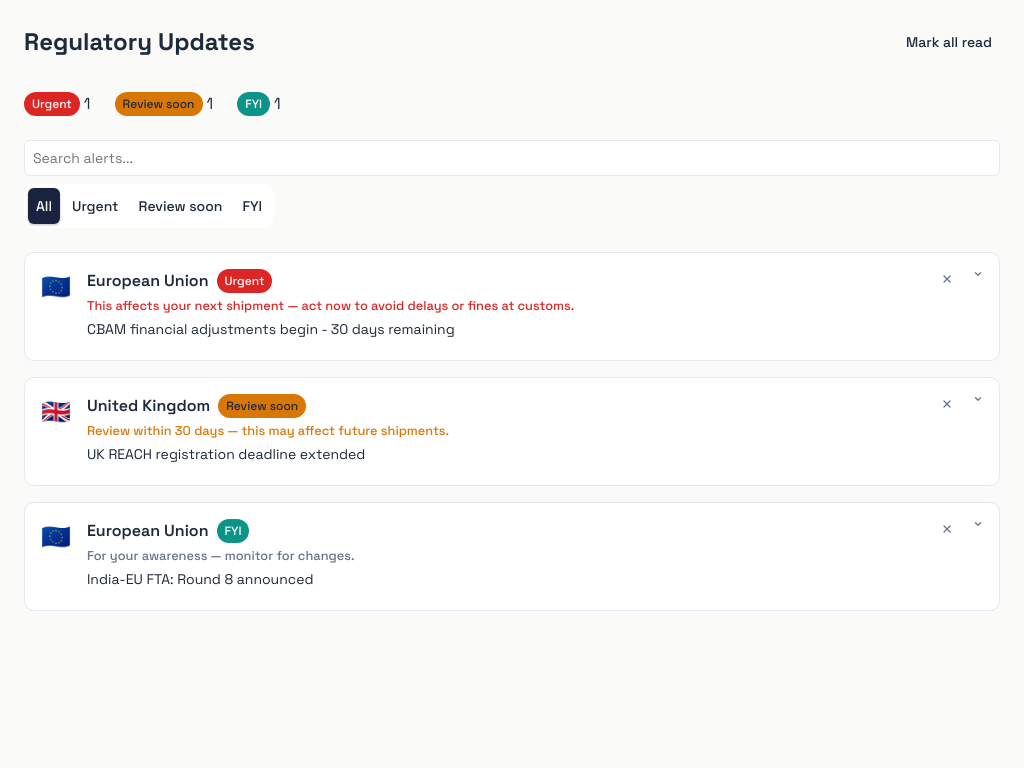
Alerts › Alert Display › displays alert date
Note: Expand the first alert card to see date details
Click the button with test id "alert-card" that starts with "European Union" at x=512, y=306, box x1=24 y1=252 x2=1000 y2=361
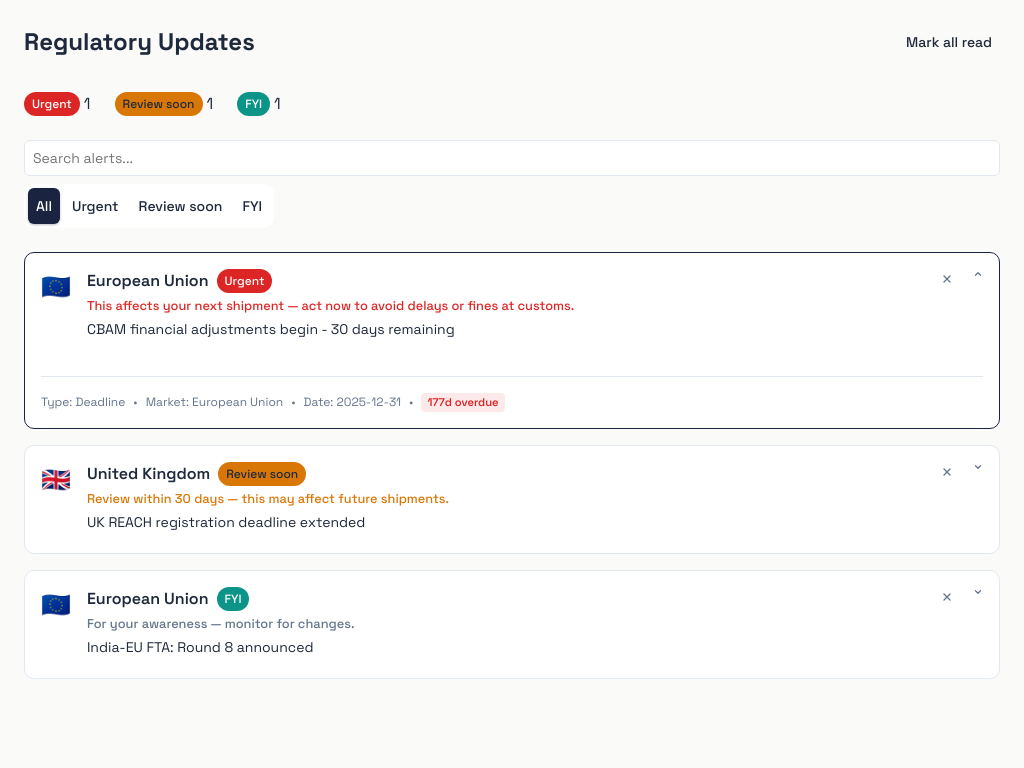
Result: the text "Date: 2025-12-31" is shown at x1=304 y1=393 x2=401 y2=411
